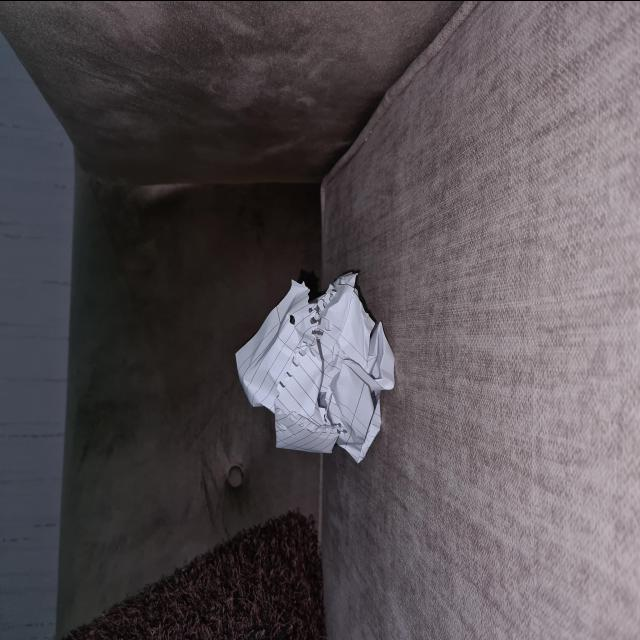kertas: (237, 269, 399, 464)
